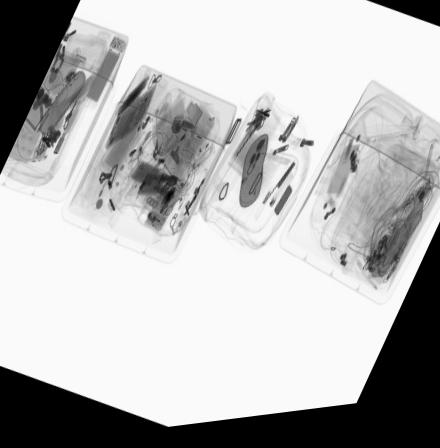Lighter: (266, 175, 294, 217)
